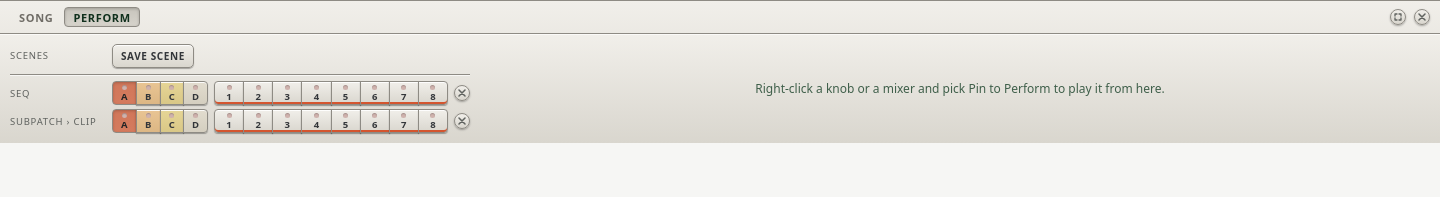
Test: PerformPanel scenes › shows the crossfader under the scenes once there are scenes
expect the element "Crossfader" is not shown: met
Click the button "Save scene": x=153, y=56 [112,44,194,68]
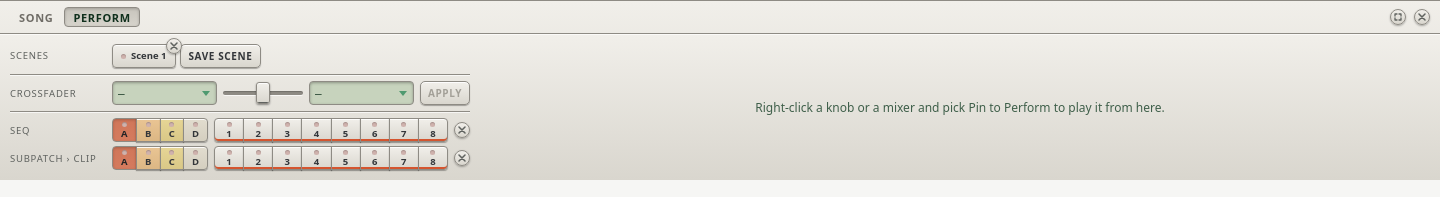
expect the element "Crossfader" is shown: met, box [10,81,470,112]
